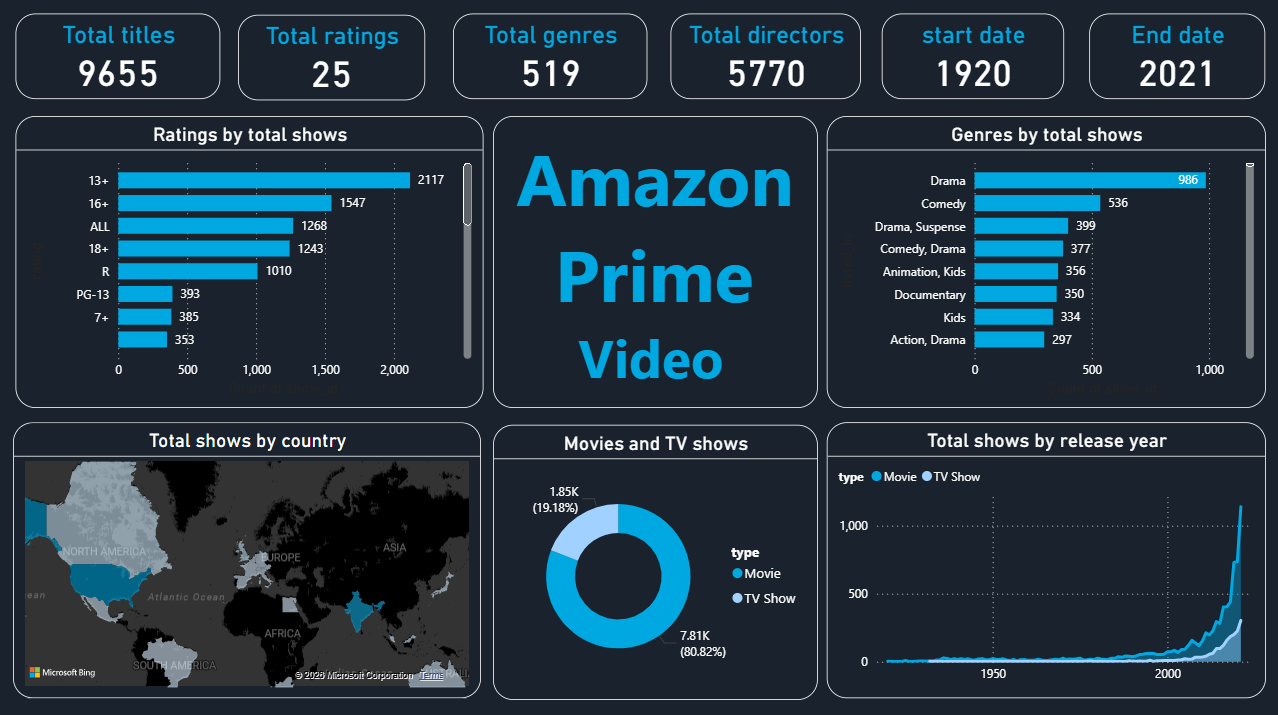

The page's visual inventory and layout, read from the dashboard file:
{"tool":"powerbi","page":{"name":"Page 1","canvas":[1280,720],"ordinal":0},"visuals":[{"type":"filledMap","title":"Total shows by country","fields":{"Category":["amazon_prime_titles.country"]},"box":[15.1,426.8,467.9,275.8],"z":0},{"type":"donutChart","title":"Movies and TV shows","fields":{"Category":["amazon_prime_titles.type"],"Y":["Count(amazon_prime_titles.show_id)"]},"box":[494.6,428.3,324.5,275.1],"z":1},{"type":"areaChart","title":"Total shows by release year","fields":{"Category":["amazon_prime_titles.release_year"],"Y":["Count(amazon_prime_titles.show_id)"],"Series":["amazon_prime_titles.type"]},"box":[828.8,426.8,439.1,275.8],"z":2},{"type":"barChart","title":"Ratings by total shows","fields":{"Category":["amazon_prime_titles.rating"],"Y":["Count(amazon_prime_titles.show_id)"]},"box":[16.9,119.4,468.1,292],"z":3},{"type":"barChart","title":"Genres by total shows","fields":{"Y":["Count(amazon_prime_titles.show_id)"],"Category":["amazon_prime_titles.listed_in"]},"box":[828.8,119.4,439.1,292],"z":4},{"type":"card","title":"Total titles","fields":{"Values":["Count(amazon_prime_titles.title)"]},"box":[16.9,18.1,205.1,85.7],"z":5},{"type":"card","title":"Total ratings","fields":{"Values":["Count(amazon_prime_titles.rating)"]},"box":[240.1,19.3,187,85.7],"z":6},{"type":"card","title":"End date","fields":{"Values":["Max(amazon_prime_titles.release_year)"]},"box":[1091.8,18.1,176.1,85.7],"z":7},{"type":"card","title":"Total genres","fields":{"Values":["Count(amazon_prime_titles.listed_in)"]},"box":[454.8,18.1,194.2,85.7],"z":8},{"type":"card","title":"Total directors","fields":{"Values":["Count(amazon_prime_titles.director)"]},"box":[672,18.1,190.6,85.7],"z":9},{"type":"card","title":"start date","fields":{"Values":["Min(amazon_prime_titles.release_year)"]},"box":[884.3,18.1,182.2,85.7],"z":10},{"type":"textbox","box":[494.6,119.4,324.5,292],"z":11}]}

Visuals, with their boxes in screenshot pixels (x1, y1, x2, y2), scaled from the page's 1280x720 canvas onto the 1278x715 screenshot:
"Total shows by country" filledMap: (15,424,482,698)
"Movies and TV shows" donutChart: (494,425,818,699)
"Total shows by release year" areaChart: (828,424,1266,698)
"Ratings by total shows" barChart: (17,119,484,409)
"Genres by total shows" barChart: (828,119,1266,409)
"Total titles" card: (17,18,222,103)
"Total ratings" card: (240,19,426,104)
"End date" card: (1090,18,1266,103)
"Total genres" card: (454,18,648,103)
"Total directors" card: (671,18,861,103)
"start date" card: (883,18,1065,103)
textbox: (494,119,818,409)
